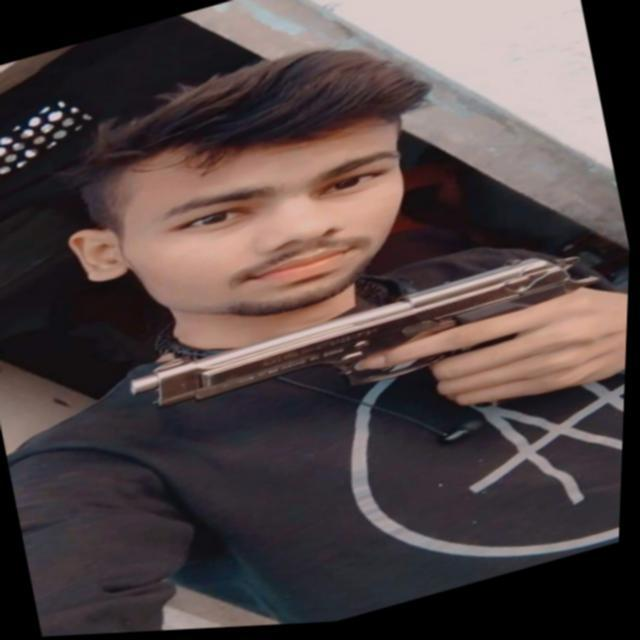weapon: (105, 236, 632, 514)
